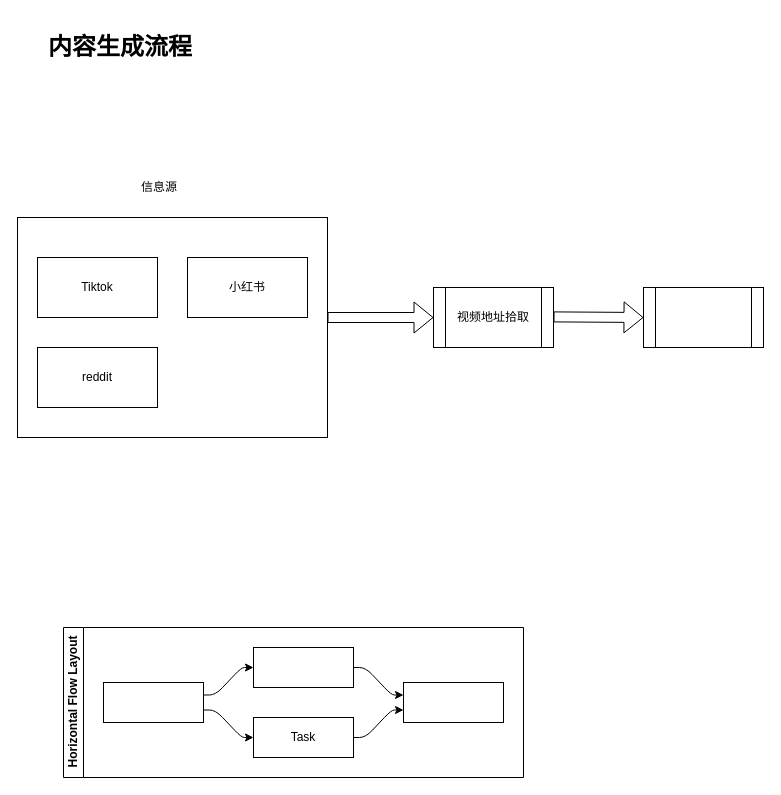
Some shapes in this 781 by 795 pixel diagram are drawn without their labels. The shapes that lost their labels are listed below. From the top down, each one's centre as x and y in pixels, then its label:
At (x=703, y=317): "视频去水印".
At (x=153, y=702): "Start".
At (x=453, y=702): "End".
